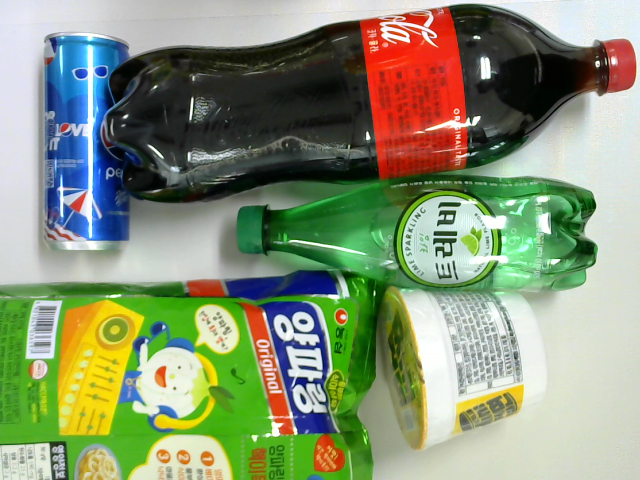Coca_Cola_1.5L: (102, 3, 638, 205)
Hejangmini: (382, 285, 550, 455)
Oninon_Ring: (1, 269, 382, 480)
Pepsi_Cola_Can_250ml: (43, 30, 132, 256)
Treviraim_500ml: (234, 175, 599, 291)
